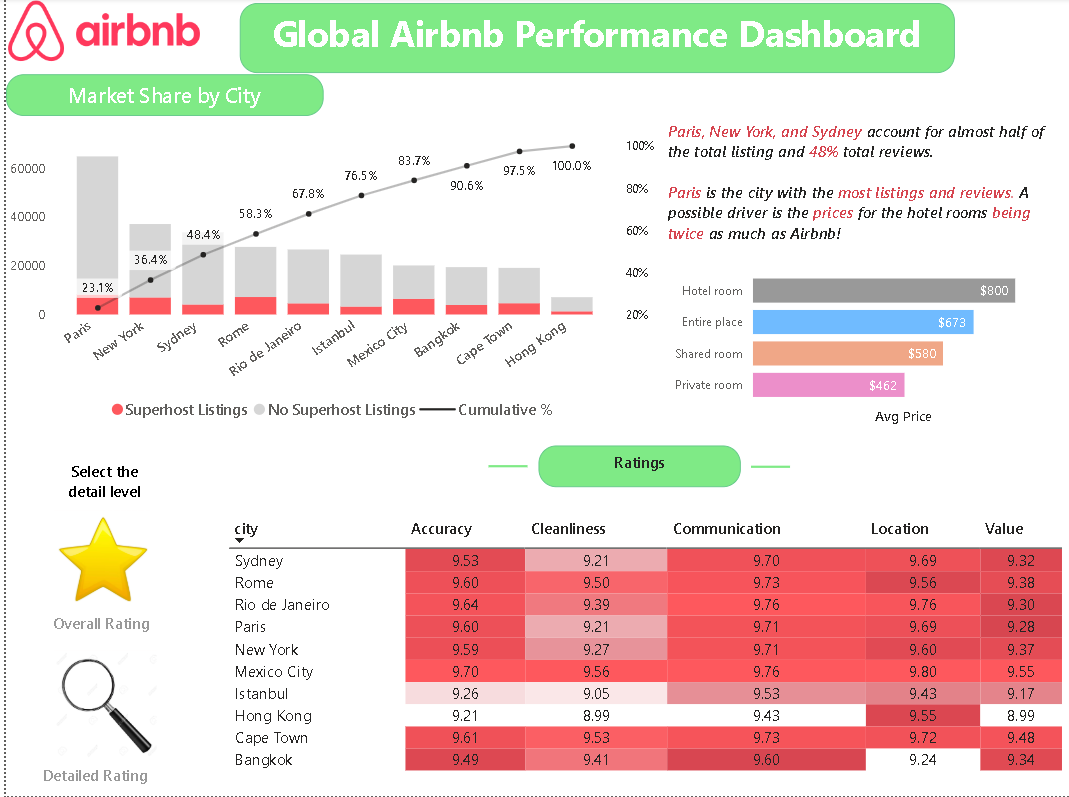

The dashboard page shown, as its layout file describes it:
{"tool":"powerbi","page":{"name":"Ratings","canvas":[960,720],"ordinal":1},"visuals":[{"type":"textbox","box":[210.3,4.9,644.4,63.6],"z":0},{"type":"image","box":[36.7,462.2,101.5,88],"z":0,"group":"g1"},{"type":"image","box":[26.9,588.2,124.7,97.8],"z":0,"group":"g2"},{"type":"image","box":[0,0,177,59],"z":1000},{"type":"textbox","box":[36.7,550.2,110.1,30.6],"z":1000,"group":"g1"},{"type":"textbox","box":[28.1,686,110.1,30.6],"z":1000,"group":"g2"},{"type":"textbox","box":[0,68.8,286.2,37.5],"z":2000},{"type":"lineStackedColumnComboChart","fields":{"Category":["Listings.city"],"Y":["Measure.Superhosting Listing","Measure.No Superhosting Listing"],"Y2":["Measure.Cumulative %"]},"box":[0,117.4,591.9,272.7],"z":3000},{"type":"barChart","fields":{"Y":["Measure.Avg Price"],"Category":["Listings.room_type"]},"box":[591.9,228.7,358.3,161.4],"z":4000},{"type":"textbox","box":[591.9,106.4,358.3,122.3],"z":5000},{"type":"textbox","box":[480.6,403.5,182.2,37.9],"z":7000},{"type":"shape","box":[435.3,407.2,35.5,30.6],"z":8000},{"type":"shape","box":[671.3,408.4,35.5,29.3],"z":9000},{"type":"shape","box":[0,408.4,177.3,311.8],"z":11000},{"type":"textbox","box":[41.6,412.1,94.2,50.1],"z":12000},{"type":"tableEx","fields":{"Values":["Listings.city","Measure.Accuracy","Measure.Cleanliness","Measure.Communication","Measure.Location","Measure.Value"]},"box":[194.4,462.2,765.5,258],"z":12500},{"type":"group","id":"g1","title":"Group 1","box":[36.7,462.2,110.1,118.6],"z":13000},{"type":"group","id":"g2","title":"Group 2","box":[26.9,588.2,124.7,128.4],"z":14000}]}

Visuals, with their boxes in screenshot pixels (x1, y1, x2, y2), scaled from the page's 960x720 canvas onto the 1069x797 screenshot:
textbox: BBox(234, 5, 952, 76)
image: BBox(41, 512, 154, 609)
image: BBox(30, 651, 169, 759)
image: BBox(0, 0, 197, 65)
textbox: BBox(41, 609, 163, 643)
textbox: BBox(31, 759, 154, 793)
textbox: BBox(0, 76, 319, 118)
lineStackedColumnComboChart - Listings.city x Measure.Superhosting Listing: BBox(0, 130, 659, 432)
barChart - Measure.Avg Price x Listings.room_type: BBox(659, 253, 1058, 432)
textbox: BBox(659, 118, 1058, 253)
textbox: BBox(535, 447, 738, 489)
shape: BBox(485, 451, 524, 485)
shape: BBox(748, 452, 787, 485)
shape: BBox(0, 452, 197, 796)
textbox: BBox(46, 456, 151, 512)
tableEx - Listings.city x Measure.Accuracy: BBox(216, 512, 1068, 796)
"Group 1" group: BBox(41, 512, 163, 643)
"Group 2" group: BBox(30, 651, 169, 793)
